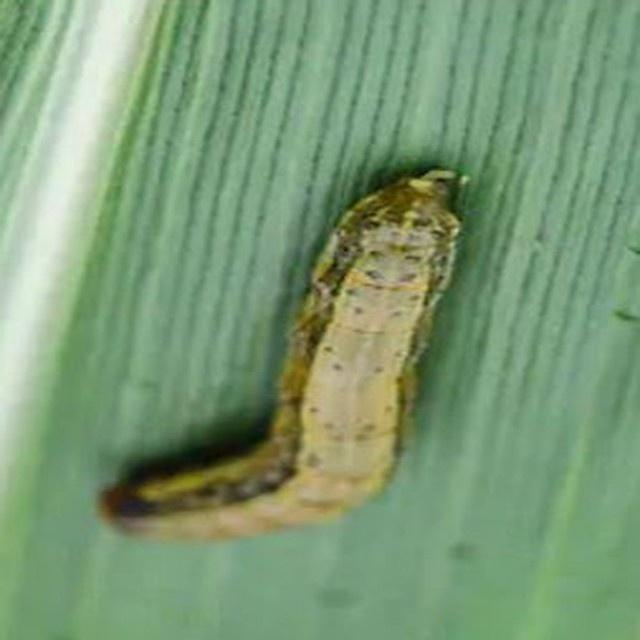gusano_cogollero: (95, 167, 475, 520)
